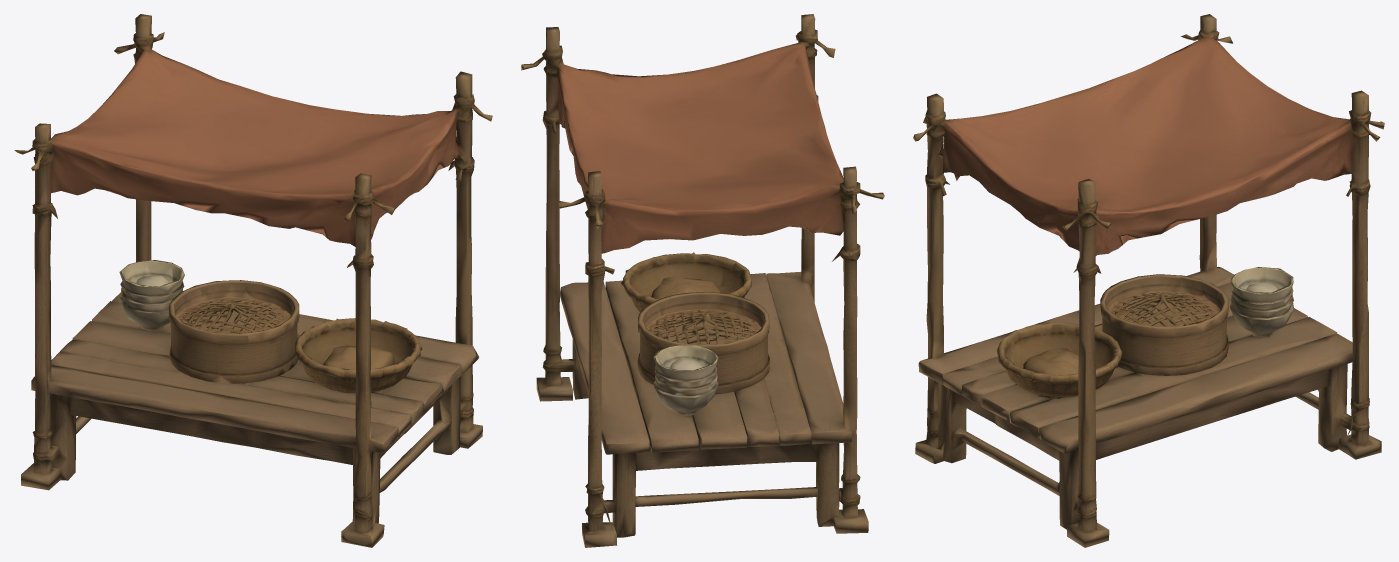
File: stall.glb
3 views of the same model, side by side, from view 1: azimuth 30°, elevation 25°; view 2: azimuth 150°, elevation 25°; view 3: azimuth 270°, elevation 25° (orthographic).
Visible parts, largest first — view 1: tripo_node_646018b4-b5f7-405f-9560-4924ad817867; view 2: tripo_node_646018b4-b5f7-405f-9560-4924ad817867; view 3: tripo_node_646018b4-b5f7-405f-9560-4924ad817867.
Part boxes in pixels (x1,y1,x2,y2): tripo_node_646018b4-b5f7-405f-9560-4924ad817867: [14, 14, 492, 547]; tripo_node_646018b4-b5f7-405f-9560-4924ad817867: [521, 14, 884, 547]; tripo_node_646018b4-b5f7-405f-9560-4924ad817867: [913, 14, 1384, 547].
Size of the model in its own units: 1.14 by 0.9881 by 1.17.
Materials: 1 (1 with a texture image).
